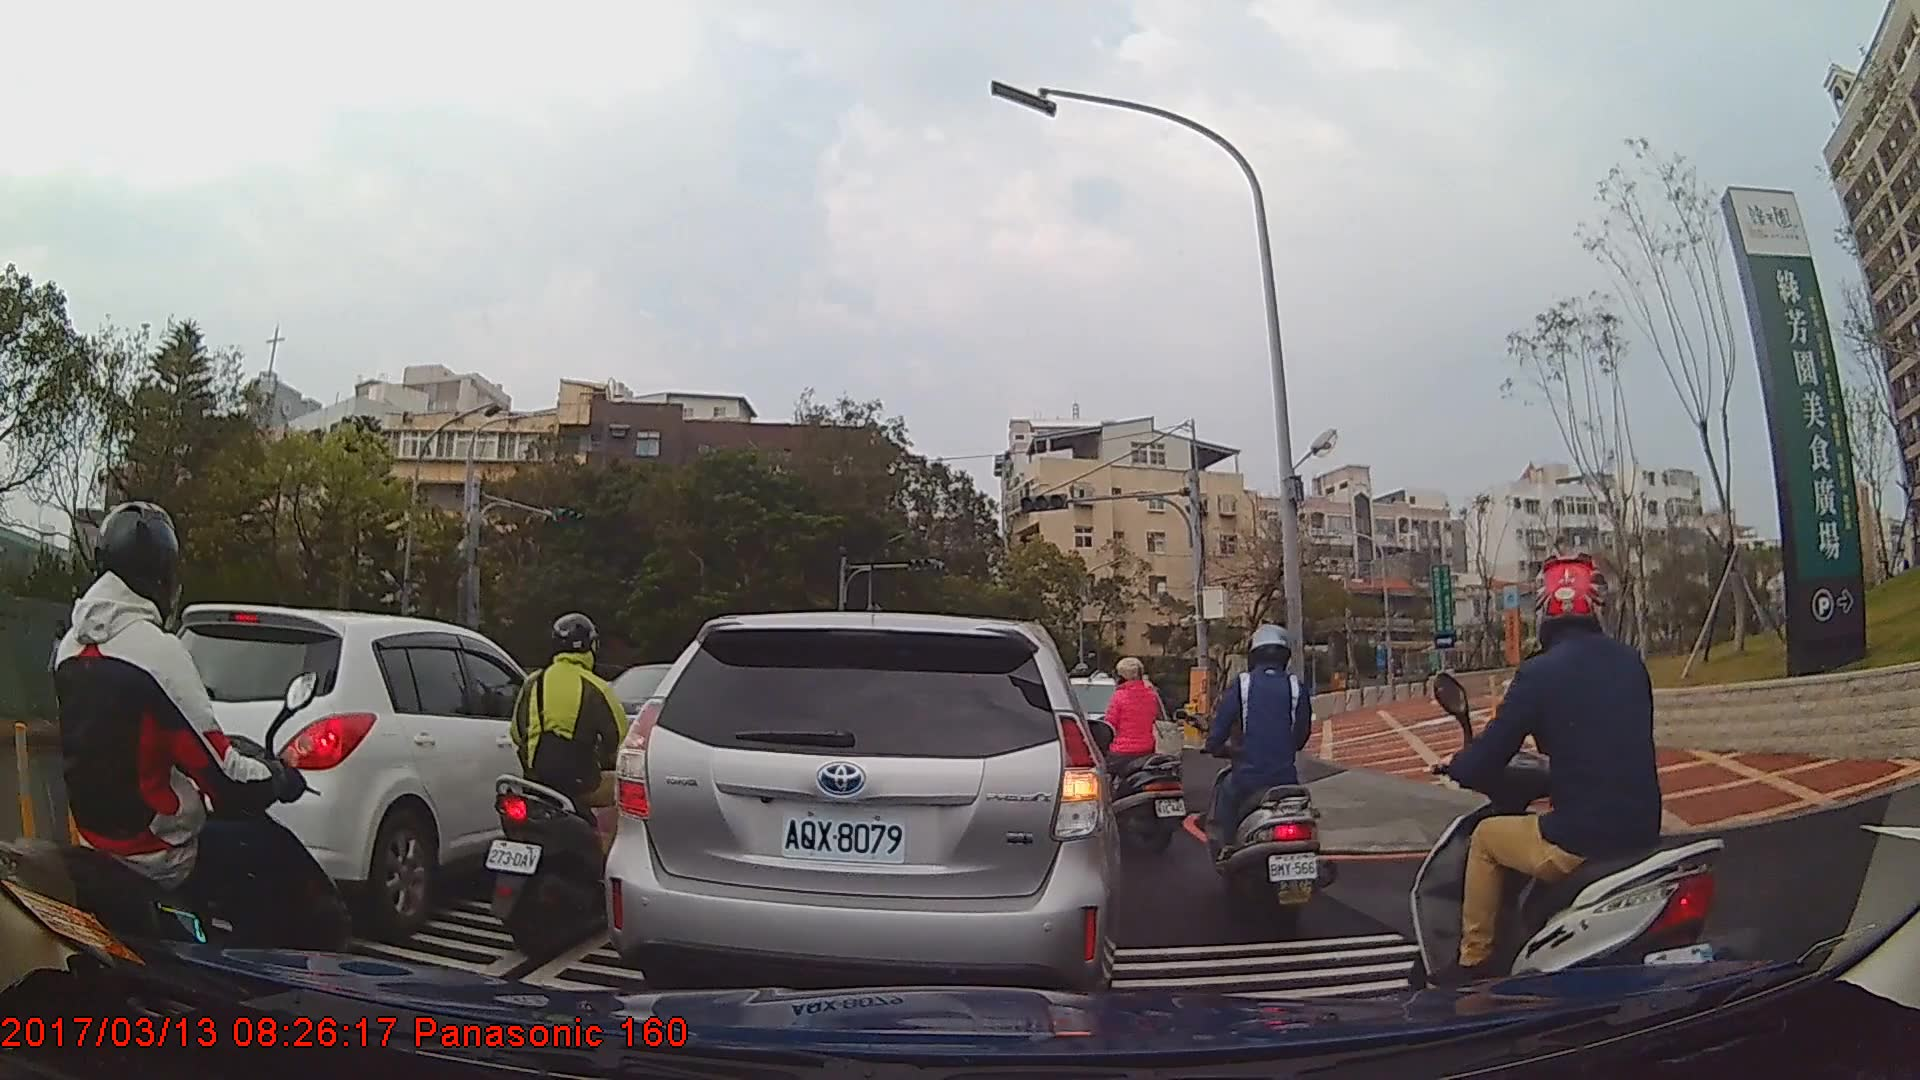pedestrian: (42, 622, 78, 719)
rider: (1, 495, 355, 1053), (1404, 555, 1722, 1040), (489, 607, 666, 956), (1203, 617, 1328, 940), (1075, 654, 1184, 861)
vehicle: (601, 610, 1122, 1003), (105, 600, 591, 943)
